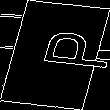P_W: (11, 33, 99, 77)
